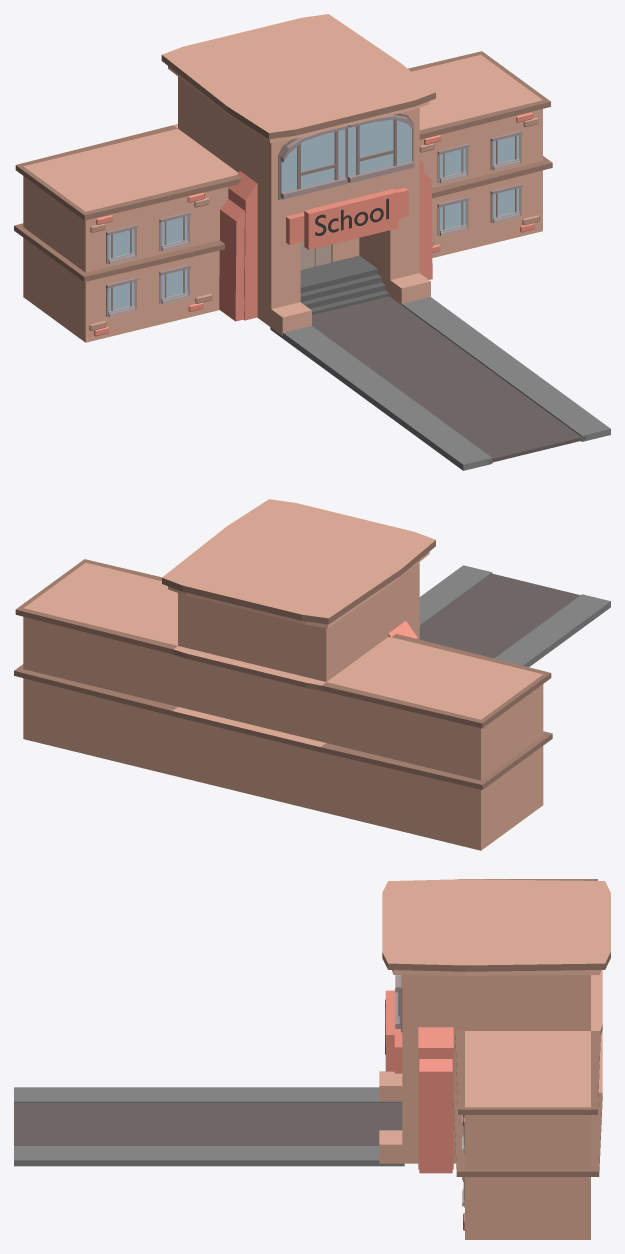
Rendered from School.fbx.
The picture shows the model from 3 angles, top to bottom: view 1: azimuth 30°, elevation 25°; view 2: azimuth 150°, elevation 25°; view 3: azimuth 270°, elevation 25°; orthographic projection.
Parts seen in each view (by area): view 1: Cube.001, Cube.047, Cube.017, Cube.049, Cube.048, Cube.016, Cube.005, Cube.004, Cube.027, Cube.024, Cube.033, Cube.030 (+8 smaller); view 2: Cube.001, Cube.047, Cube.049, Cube.048; view 3: Cube.001, Cube.047, Cube.048, Cube.049, Cube.003, Cube.002.
Boxes of the visible parts, left/top/right/bottom form: Cube.001: left=14, top=14, right=552, bottom=342; Cube.047: left=312, top=296, right=585, bottom=463; Cube.017: left=280, top=115, right=414, bottom=199; Cube.049: left=270, top=326, right=492, bottom=470; Cube.048: left=401, top=297, right=610, bottom=441; Cube.016: left=300, top=255, right=389, bottom=314; Cube.005: left=219, top=199, right=244, bottom=321; Cube.004: left=228, top=171, right=257, bottom=320; Cube.027: left=490, top=131, right=522, bottom=170; Cube.024: left=437, top=144, right=469, bottom=183; Cube.033: left=490, top=183, right=522, bottom=223; Cube.030: left=437, top=196, right=469, bottom=236; Cube.001: left=14, top=499, right=552, bottom=850; Cube.047: left=419, top=573, right=580, bottom=658; Cube.049: left=494, top=594, right=610, bottom=667; Cube.048: left=419, top=565, right=492, bottom=626; Cube.001: left=379, top=879, right=610, bottom=1239; Cube.047: left=14, top=1103, right=402, bottom=1145; Cube.048: left=14, top=1146, right=404, bottom=1166; Cube.049: left=14, top=1087, right=402, bottom=1102; Cube.003: left=419, top=1059, right=452, bottom=1173; Cube.002: left=418, top=1027, right=453, bottom=1169.
Size of the model in its own units: 3091 by 1366 by 3370.
